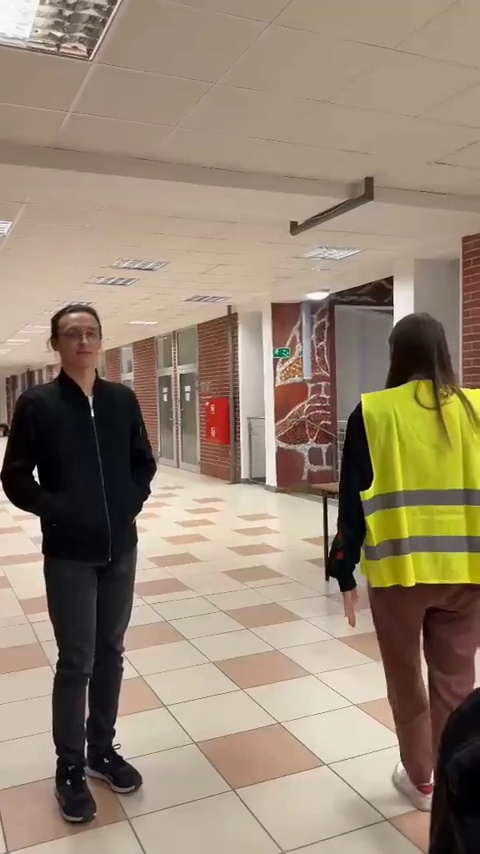no vest: (5, 305, 163, 833)
vest: (323, 310, 480, 804)
